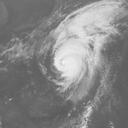cyclone: (50, 33, 98, 93)
